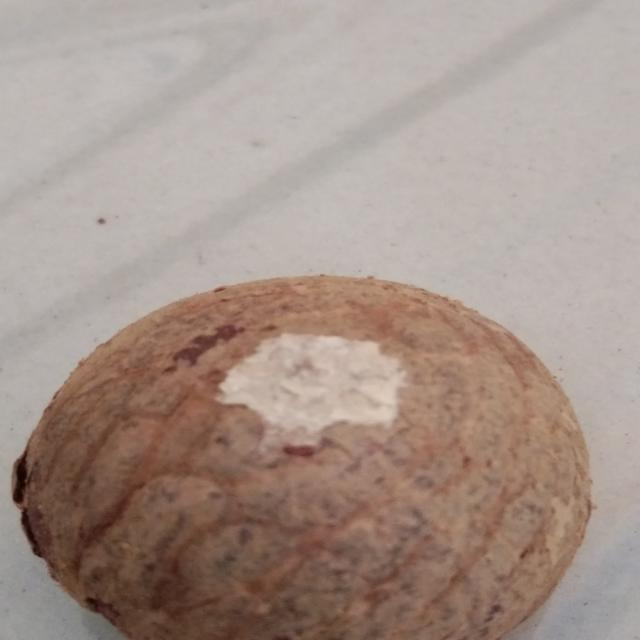karigot: (0, 281, 594, 640)
